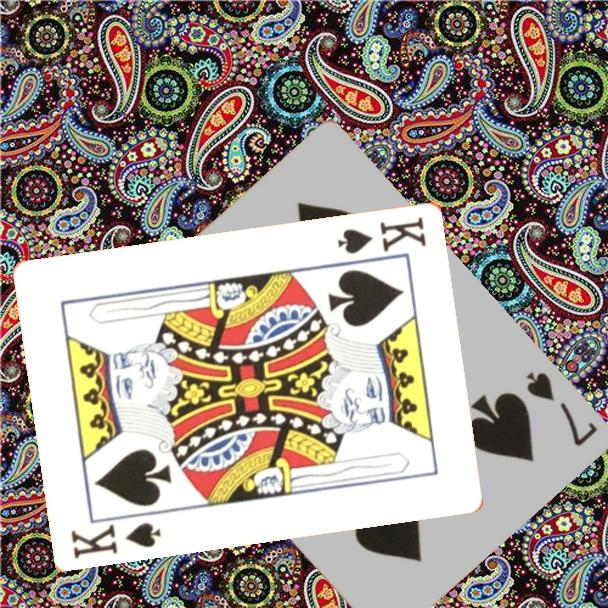s07: (522, 367, 600, 450)
s13: (334, 212, 430, 257), (68, 518, 165, 561)
